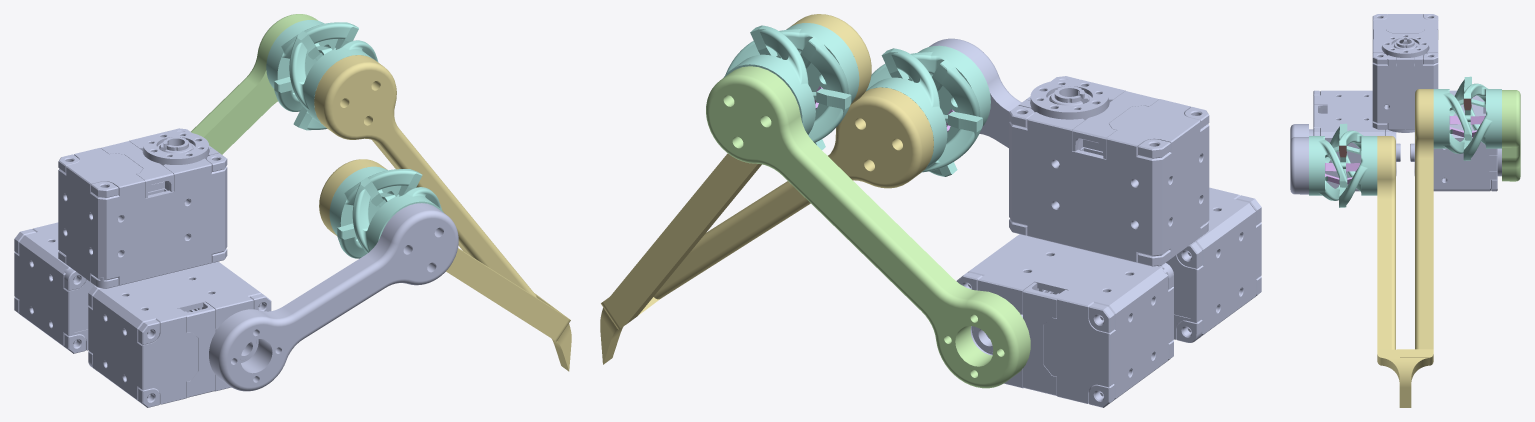
3 views of the same model, side by side, from view 1: azimuth 30°, elevation 25°; view 2: azimuth 150°, elevation 25°; view 3: azimuth 270°, elevation 25° (orthographic). The views are drawn at different scales.
Parts seen in each view (by area): view 1: XL-430_new.stp-3/DC11_A01_DUMMY.stp-1, EndEffector_002-1, Fibia_YY_002-1, XL-430_new.stp-2/DC11_A01_DUMMY.stp-1, UniversalJointP_Flexure-1, XL-430_new.stp-1/DC11_A01_DUMMY.stp-1, UniversalJointP_Flexure-3, Fibia_YY_001-1, XL-430_new.stp-2/DC11_A01_CASE_CVR_DUMMY.stp-1, XL-430_new.stp-3/DC11_A01_IDLER_DUMMY.stp-1, XL-430_new.stp-3/DC11_A01_CASE_CVR_DUMMY.stp-1; view 2: XL-430_new.stp-3/DC11_A01_DUMMY.stp-1, Fibia_YY_001-1, EndEffector_002-1, XL-430_new.stp-1/DC11_A01_DUMMY.stp-1, UniversalJointP_Flexure-3, UniversalJointP_Flexure-1, XL-430_new.stp-2/DC11_A01_DUMMY.stp-1, XL-430_new.stp-1/DC11_A01_CASE_CVR_DUMMY.stp-1, Fibia_YY_002-1, XL-430_new.stp-3/DC11_A01_IDLER_DUMMY.stp-1, XL-430_new.stp-3/DC11_A01_CASE_CVR_DUMMY.stp-1, XL-430_new.stp-3/DC11_A01_IDLER_CAP_DUMMY.stp-1 (+1 smaller); view 3: EndEffector_002-1, XL-430_new.stp-3/DC11_A01_DUMMY.stp-1, UniversalJointP_Flexure-3, UniversalJointP_Flexure-1, XL-430_new.stp-1/DC11_A01_DUMMY.stp-1, XL-430_new.stp-2/DC11_A01_DUMMY.stp-1, Fibia_YY_001-1, Fibia_YY_002-1, XL-430_new.stp-3/DC11_A01_IDLER_DUMMY.stp-1, XL-430_new.stp-3/DC11_A01_CASE_CVR_DUMMY.stp-1.
Part boxes in pixels (x1,y1,x2,y2): XL-430_new.stp-3/DC11_A01_DUMMY.stp-1: (58,131,227,285); EndEffector_002-1: (314,55,571,371); Fibia_YY_002-1: (209,203,458,391); XL-430_new.stp-2/DC11_A01_DUMMY.stp-1: (88,261,261,404); UniversalJointP_Flexure-1: (266,20,378,130); XL-430_new.stp-1/DC11_A01_DUMMY.stp-1: (14,222,94,350); UniversalJointP_Flexure-3: (329,166,443,258); Fibia_YY_001-1: (191,14,318,154); XL-430_new.stp-2/DC11_A01_CASE_CVR_DUMMY.stp-1: (178,302,215,397); XL-430_new.stp-3/DC11_A01_IDLER_DUMMY.stp-1: (143,131,208,165); XL-430_new.stp-3/DC11_A01_CASE_CVR_DUMMY.stp-1: (101,141,173,198); XL-430_new.stp-3/DC11_A01_DUMMY.stp-1: (1009,79,1209,262); Fibia_YY_001-1: (706,66,1030,388); EndEffector_002-1: (600,14,933,364); XL-430_new.stp-1/DC11_A01_DUMMY.stp-1: (968,234,1173,403); UniversalJointP_Flexure-3: (866,45,990,176); UniversalJointP_Flexure-1: (723,23,859,149); XL-430_new.stp-2/DC11_A01_DUMMY.stp-1: (1166,187,1261,339); XL-430_new.stp-1/DC11_A01_CASE_CVR_DUMMY.stp-1: (1023,282,1067,395); Fibia_YY_002-1: (929,38,1021,147); XL-430_new.stp-3/DC11_A01_IDLER_DUMMY.stp-1: (1030,79,1108,120); XL-430_new.stp-3/DC11_A01_CASE_CVR_DUMMY.stp-1: (1072,91,1159,158); XL-430_new.stp-3/DC11_A01_IDLER_CAP_DUMMY.stp-1: (1049,86,1089,105); EndEffector_002-1: (1377,89,1433,407); XL-430_new.stp-3/DC11_A01_DUMMY.stp-1: (1372,14,1438,132); UniversalJointP_Flexure-3: (1309,123,1377,207); UniversalJointP_Flexure-1: (1433,76,1501,160); XL-430_new.stp-1/DC11_A01_DUMMY.stp-1: (1410,90,1497,191); XL-430_new.stp-2/DC11_A01_DUMMY.stp-1: (1313,90,1400,191); Fibia_YY_001-1: (1502,90,1520,181); Fibia_YY_002-1: (1290,124,1308,194); XL-430_new.stp-3/DC11_A01_IDLER_DUMMY.stp-1: (1382,34,1428,59); XL-430_new.stp-3/DC11_A01_CASE_CVR_DUMMY.stp-1: (1373,29,1437,39).
Bounding box in the file's own units: 0.1759 × 0.1228 × 0.1.
